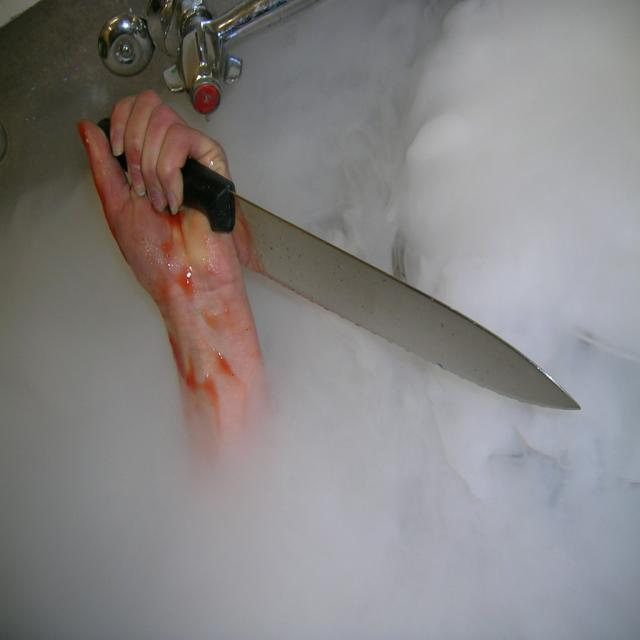Knife: (240, 199, 579, 409), (182, 159, 236, 232)
